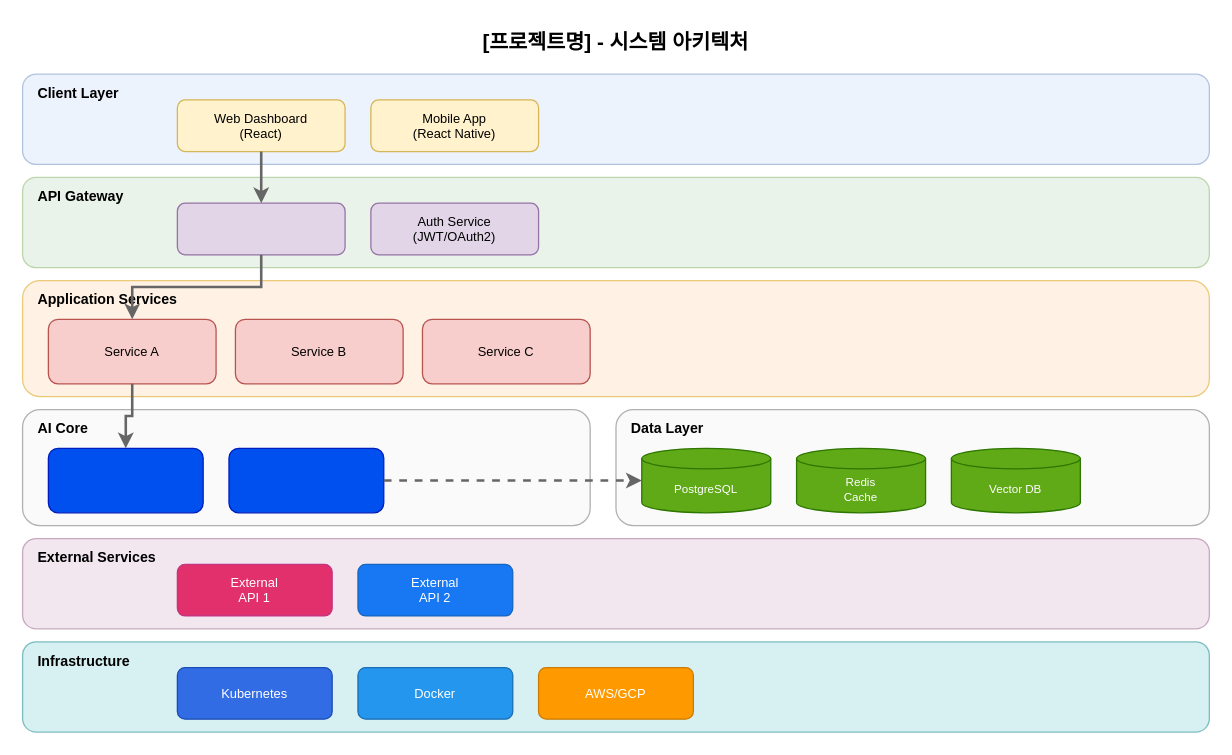
The diagram is 1232 pixels wide and 755 high, and some of its shapes have lost their labels. The shapes that lost their labels are listed below. From the top down, each one's centre as x and y in pixels, then its label:
At point 260,228: "API Gateway (FastAPI)".
At point 125,480: "LLM API".
At point 306,480: "RAG Engine".
